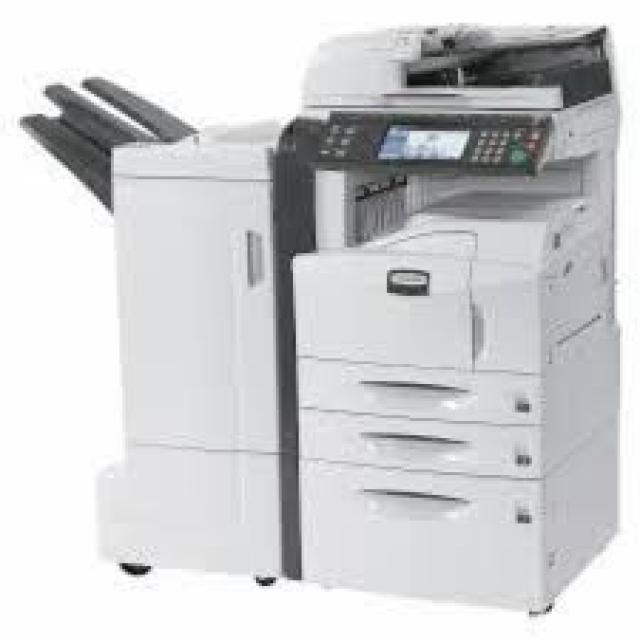printer: (17, 20, 623, 617)
